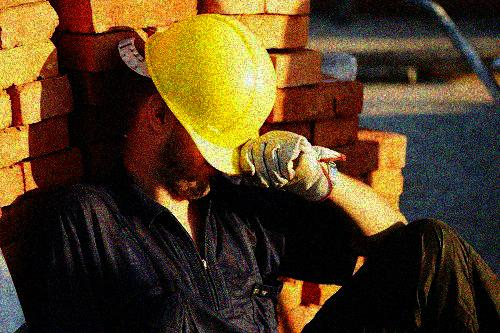helmet: (111, 13, 277, 204)
